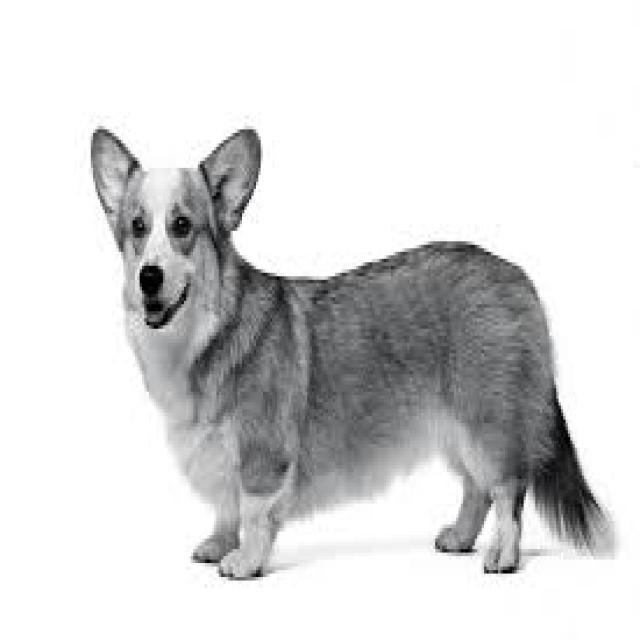CORGI: (84, 104, 618, 608)
